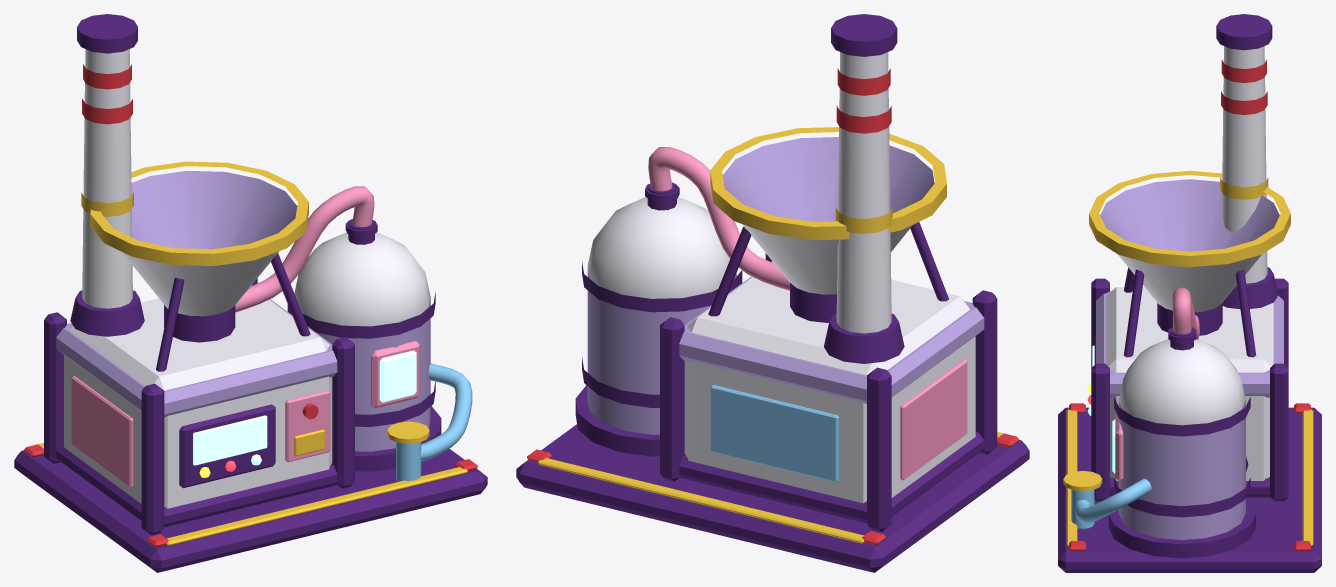
Rendered from Lunar_Regolith_Oxygen_Plant.glb.
3 views of the same model, side by side, from view 1: azimuth 30°, elevation 25°; view 2: azimuth 150°, elevation 25°; view 3: azimuth 270°, elevation 25° (orthographic). The views are drawn at different scales.
Parts seen in each view (by area): view 1: Lunar_Regolith_Oxygen_Plant; view 2: Lunar_Regolith_Oxygen_Plant; view 3: Lunar_Regolith_Oxygen_Plant.
Boxes of the visible parts, box(x1,y1,x2,y2) form: Lunar_Regolith_Oxygen_Plant: box(14, 14, 487, 572); Lunar_Regolith_Oxygen_Plant: box(516, 14, 1029, 572); Lunar_Regolith_Oxygen_Plant: box(1058, 14, 1321, 572).
Size of the model in its own units: 4.75 by 6.03 by 3.4.
